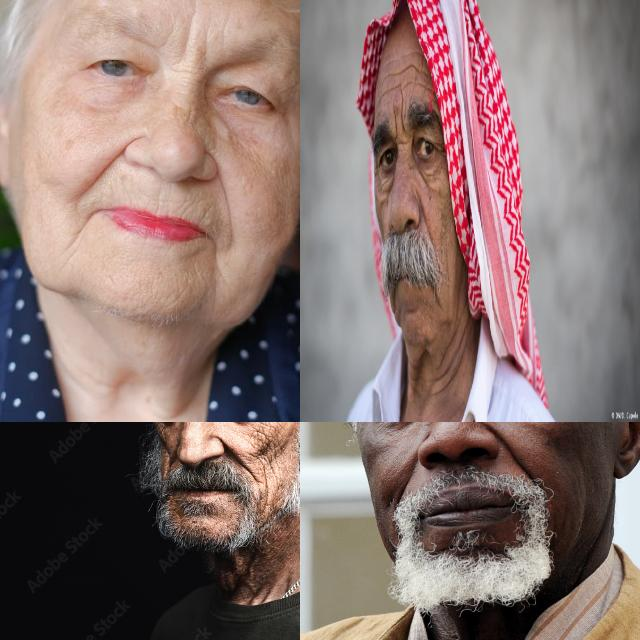bunny_line: (167, 100, 203, 132)
forehead: (413, 75, 435, 101), (379, 77, 399, 101), (405, 53, 420, 81), (386, 62, 402, 86)
frown_line: (168, 21, 210, 73), (399, 88, 407, 132), (391, 106, 400, 143)
gummy_smile: (80, 136, 132, 196), (489, 424, 531, 474), (391, 450, 427, 506), (208, 162, 236, 218), (223, 440, 244, 464), (418, 192, 428, 232)
masseter: (261, 439, 279, 465), (260, 467, 274, 497)
sad_smile: (72, 204, 106, 266), (205, 238, 229, 290)
